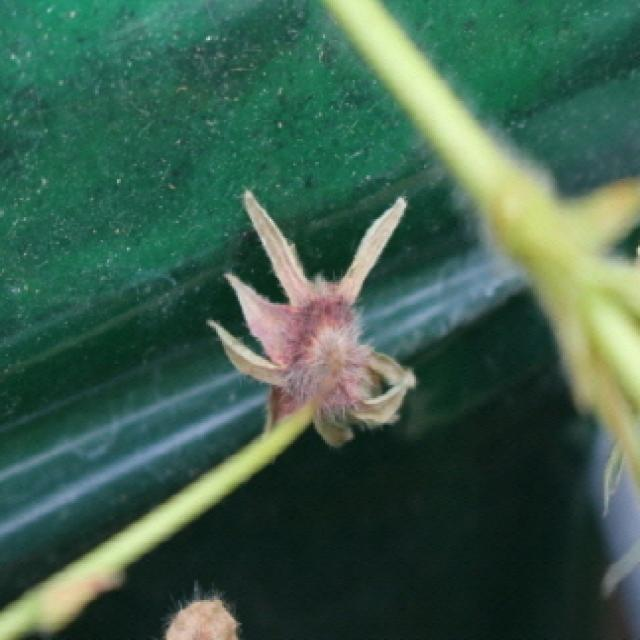Gray Mold: (206, 188, 416, 447)
